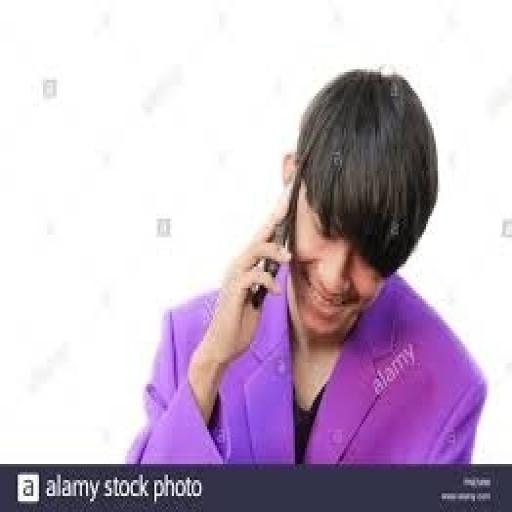calling: (123, 64, 491, 467)
